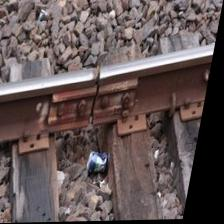person: (59, 59, 138, 133)
